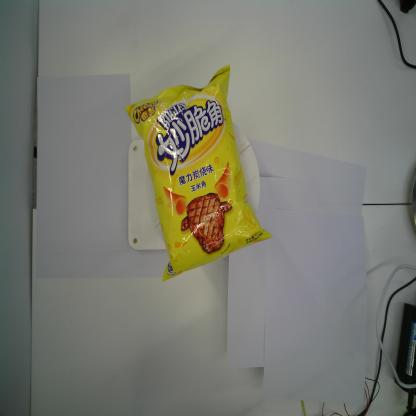Puffed Food: (123, 63, 274, 283)
